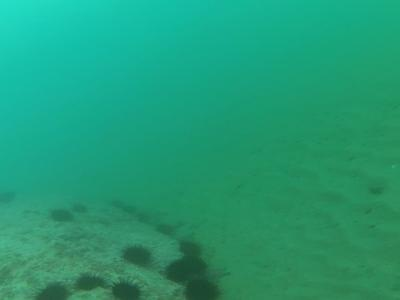urchin: (167, 257, 206, 278), (125, 242, 152, 267), (181, 280, 219, 297), (33, 279, 70, 296), (112, 276, 145, 295), (75, 271, 105, 290), (52, 208, 74, 224), (181, 241, 203, 257)
